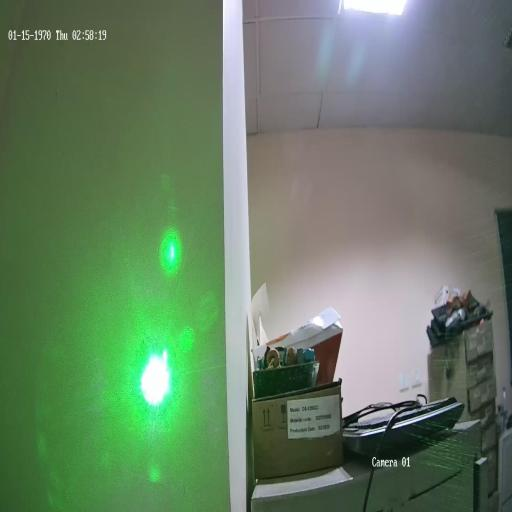laser: (129, 319, 183, 424)
